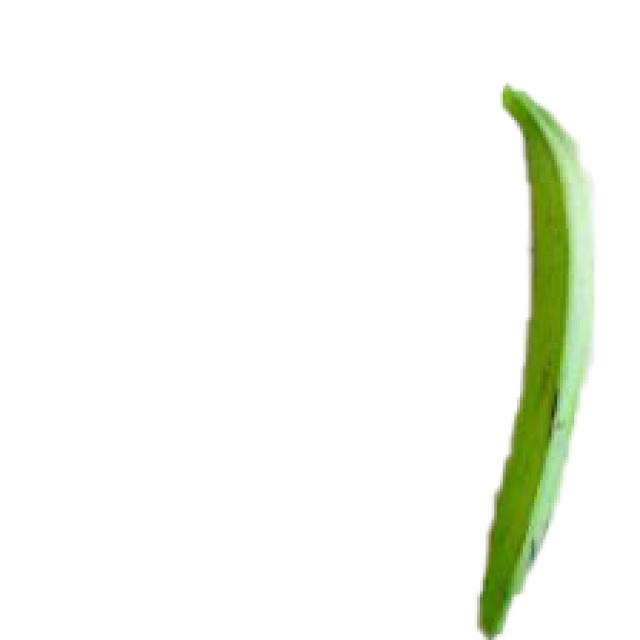fresh-banana: (474, 80, 594, 637)
